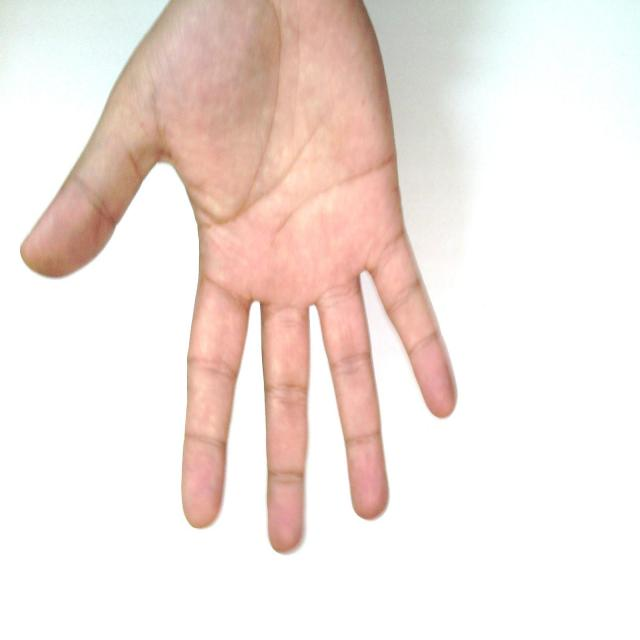others: (4, 1, 567, 566)
